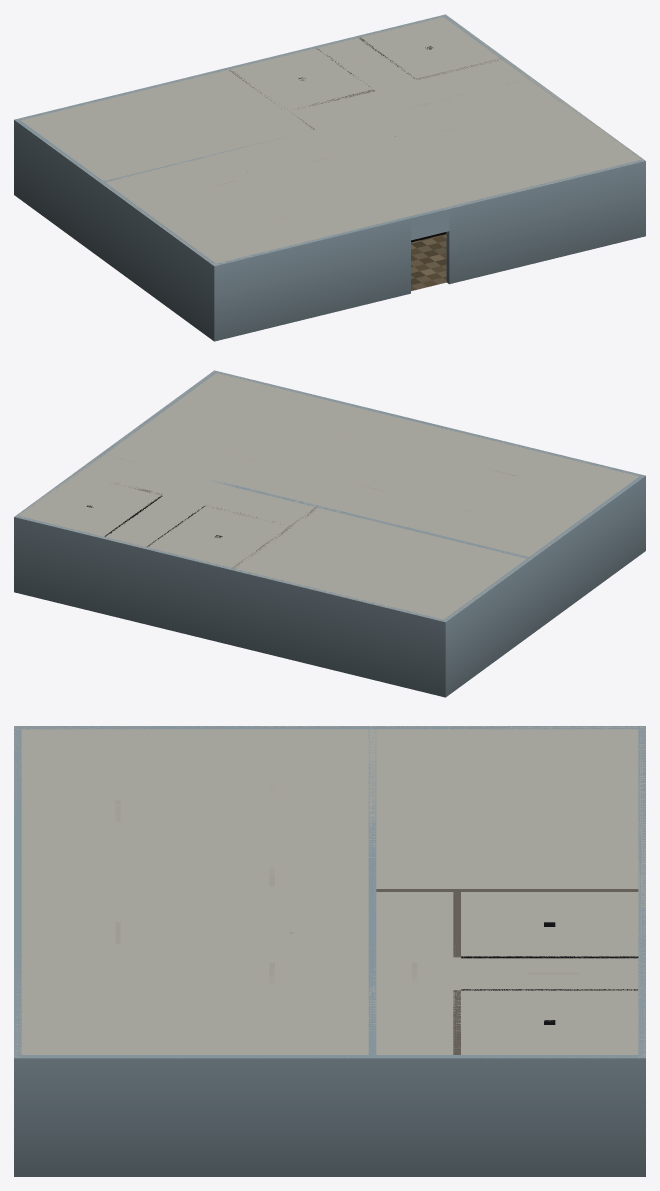
The model's file is int_police.glb.
The picture shows the model from 3 angles, top to bottom: view 1: azimuth 30°, elevation 25°; view 2: azimuth 150°, elevation 25°; view 3: azimuth 270°, elevation 25°; orthographic projection. The views are drawn at different scales.
Visible parts, largest first — view 1: ROOM; view 2: ROOM; view 3: ROOM.
Part boxes in pixels (x1=…): ROOM: x1=14, y1=14, x2=645, y2=341; ROOM: x1=14, y1=370, x2=645, y2=697; ROOM: x1=14, y1=726, x2=645, y2=1176.
Bounding box in the file's own units: 20.4 × 3.4 × 16.4.
